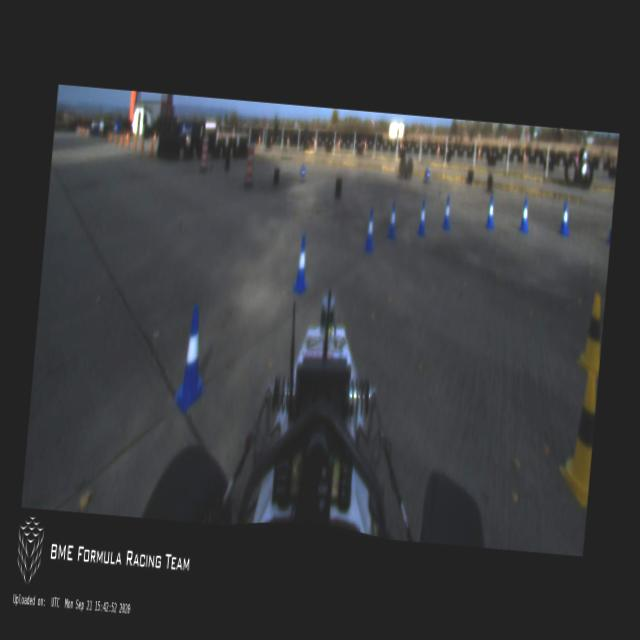blue_cone: (170, 302, 212, 412), (292, 234, 310, 294), (362, 208, 378, 252), (440, 192, 453, 232), (386, 201, 399, 239), (416, 198, 428, 236), (518, 198, 530, 234), (484, 194, 496, 229), (558, 202, 571, 234)
yellow_cone: (555, 366, 598, 511), (574, 292, 605, 377)
